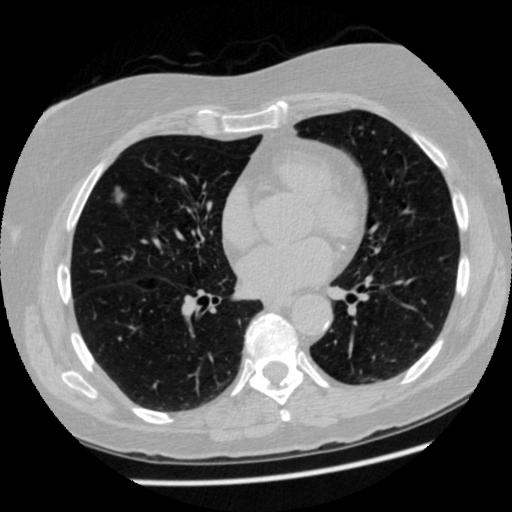nodule: (107, 184, 130, 207)
